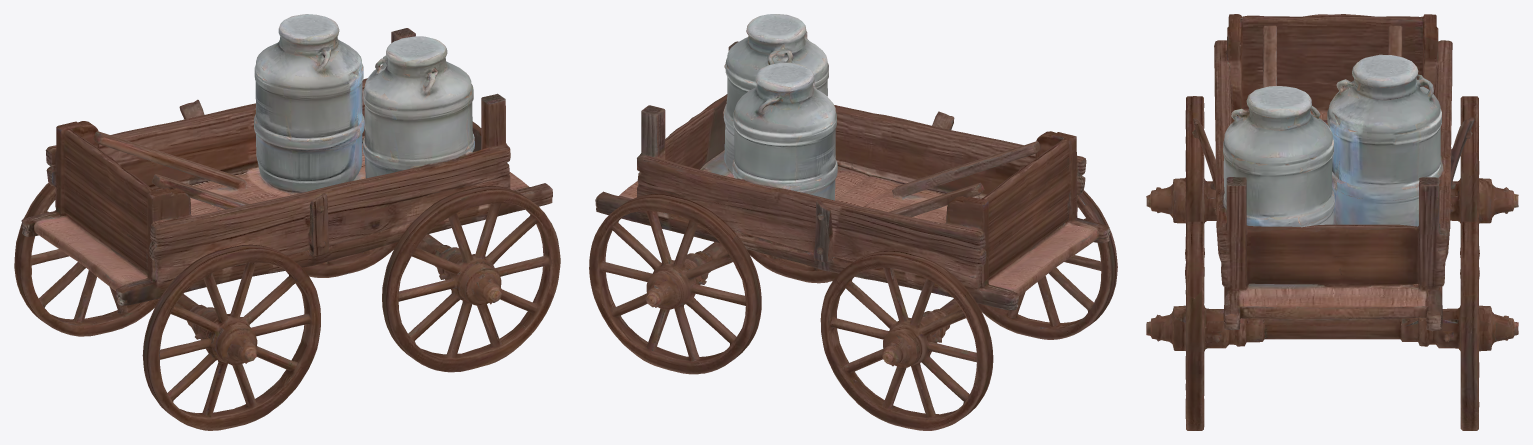
Rendered from prop-cart-opt.glb.
3 views of the same model, side by side, from view 1: azimuth 30°, elevation 25°; view 2: azimuth 150°, elevation 25°; view 3: azimuth 270°, elevation 25° (orthographic). The views are drawn at different scales.
Parts seen in each view (by area): view 1: Mesh_0; view 2: Mesh_0; view 3: Mesh_0.
Part boxes in pixels (<box>): Mesh_0: <box>14,14,560,430</box>; Mesh_0: <box>589,14,1117,430</box>; Mesh_0: <box>1146,14,1518,430</box>.
Bounding box in the file's own units: 1.91 × 1.24 × 1.33.
Materials: 1 (1 with a texture image).
